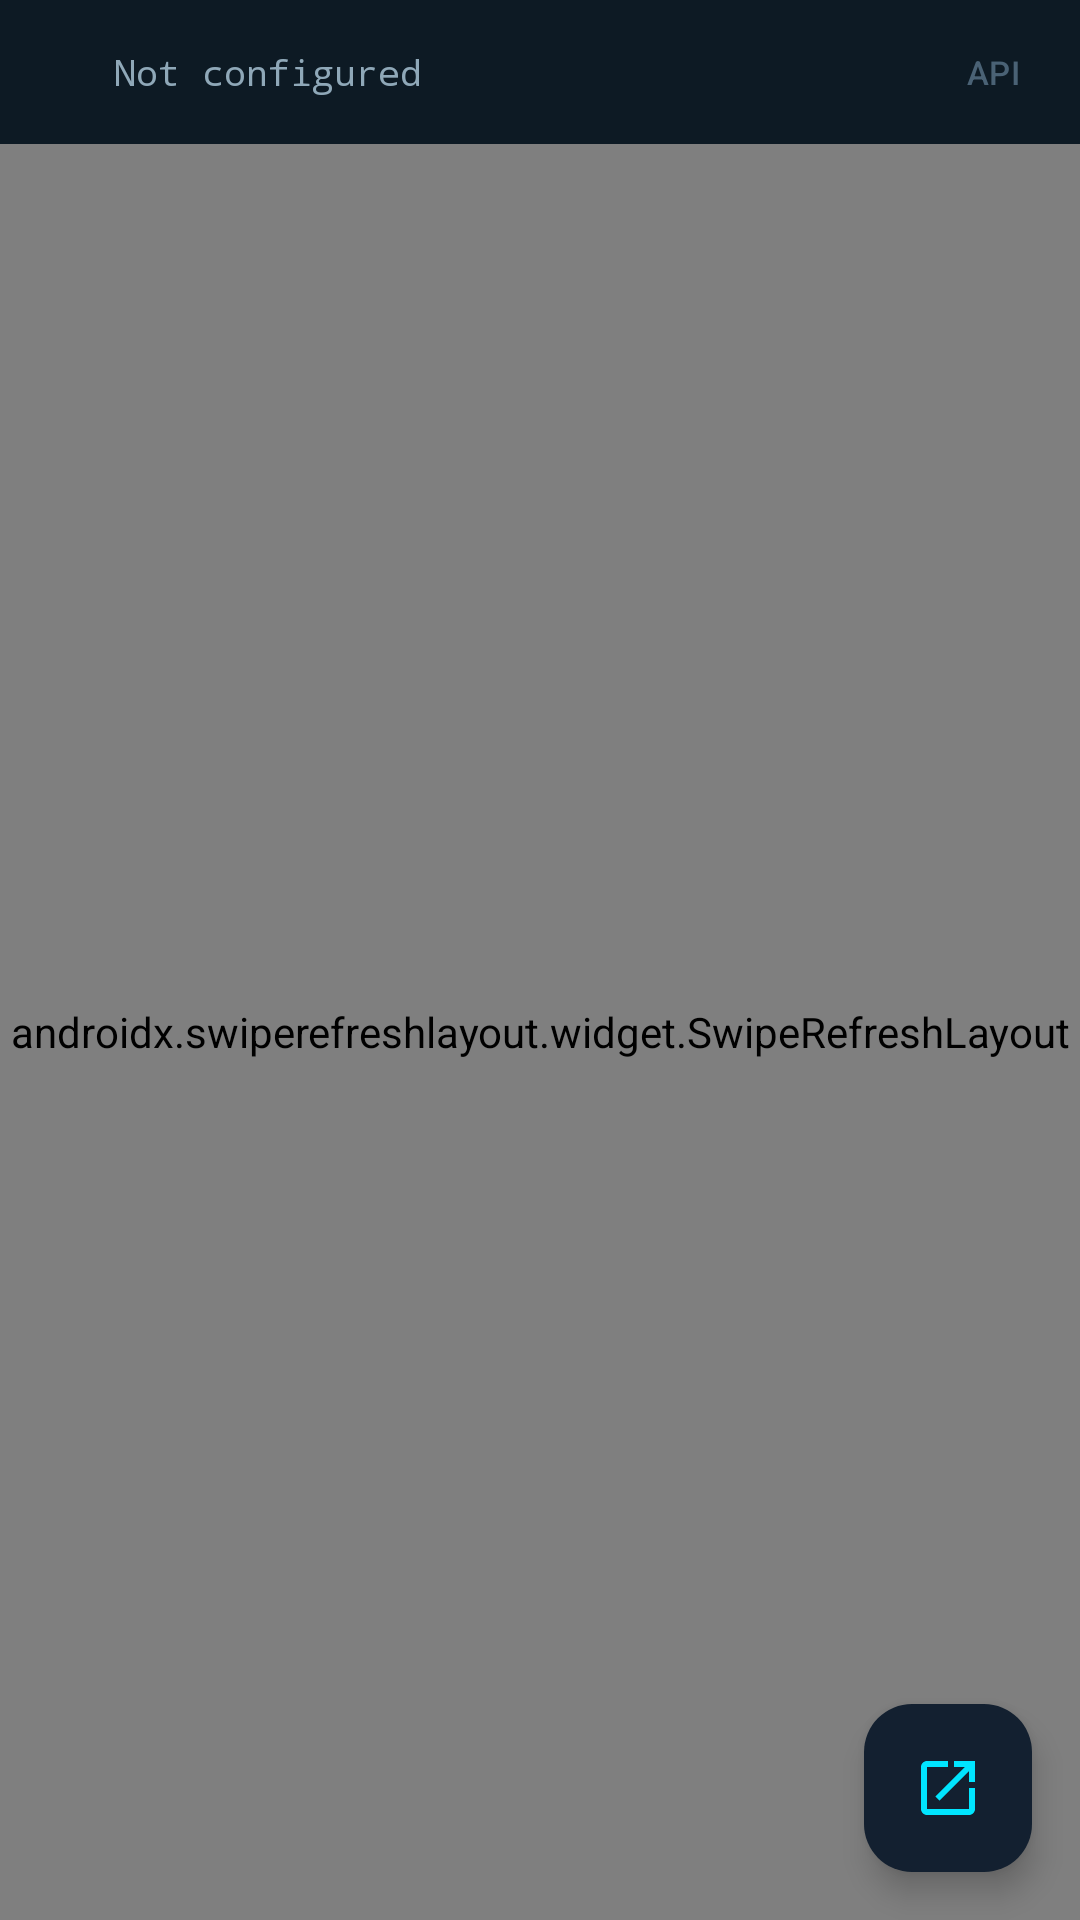

Screen size 1080×1920. Icon name, then its box in pixels as (x1, y1, x2, y2):
Open in browser: (864, 1704, 1032, 1872)
